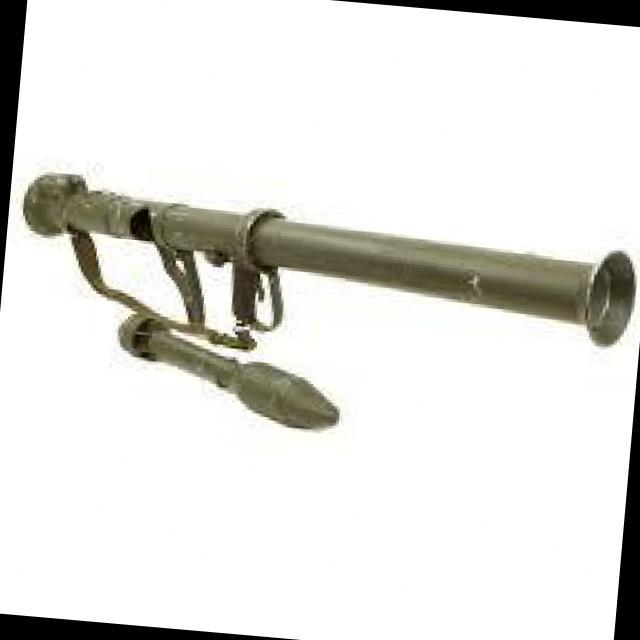rocket: (8, 159, 640, 448)
